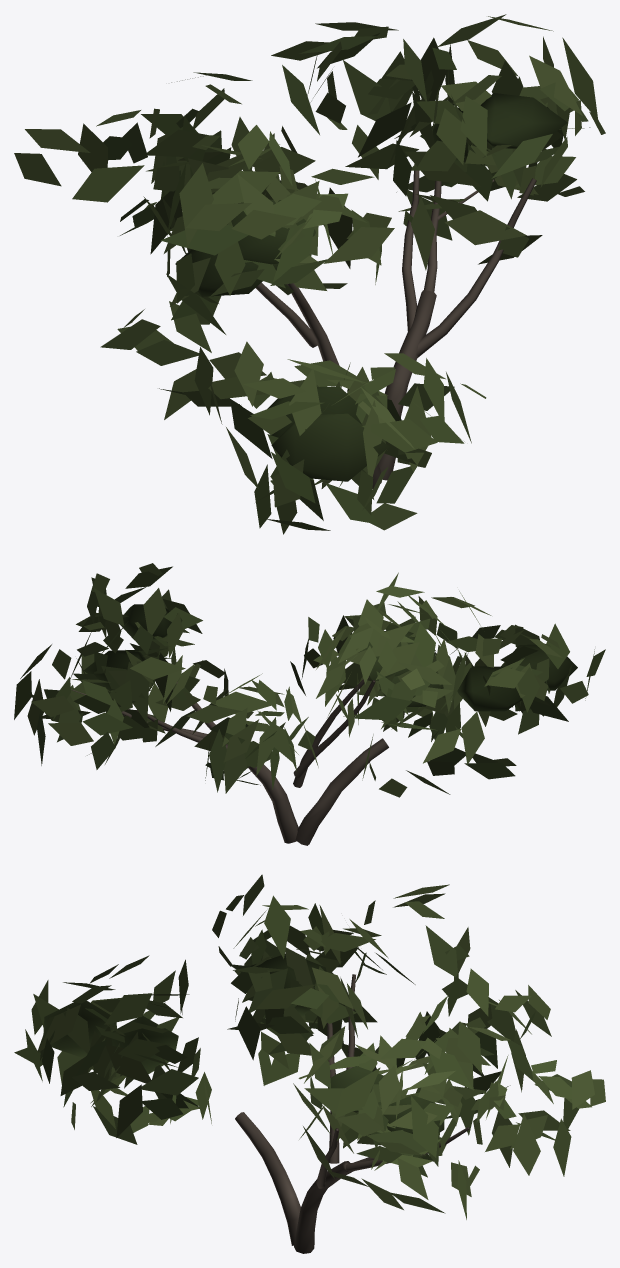
Rendered from tree_mesquite_mid.glb.
3 views of the same model, one above another, from view 1: azimuth 30°, elevation 25°; view 2: azimuth 150°, elevation 25°; view 3: azimuth 270°, elevation 25° (orthographic). The views are drawn at different scales.
Parts seen in each view (by area): view 1: tree_mesquite_mid; view 2: tree_mesquite_mid; view 3: tree_mesquite_mid.
Part boxes in pixels (box(x1,y1,x2,y2)): tree_mesquite_mid: box(14, 14, 605, 534); tree_mesquite_mid: box(14, 563, 605, 845); tree_mesquite_mid: box(14, 874, 605, 1253).
Bounding box in the file's own units: 8.66 × 5.67 × 9.89.
